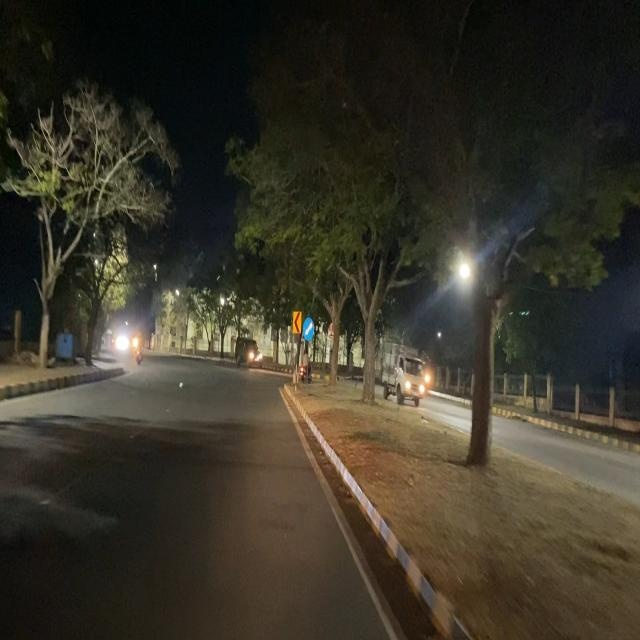bien_hieu_lenh: (302, 316, 315, 342)
